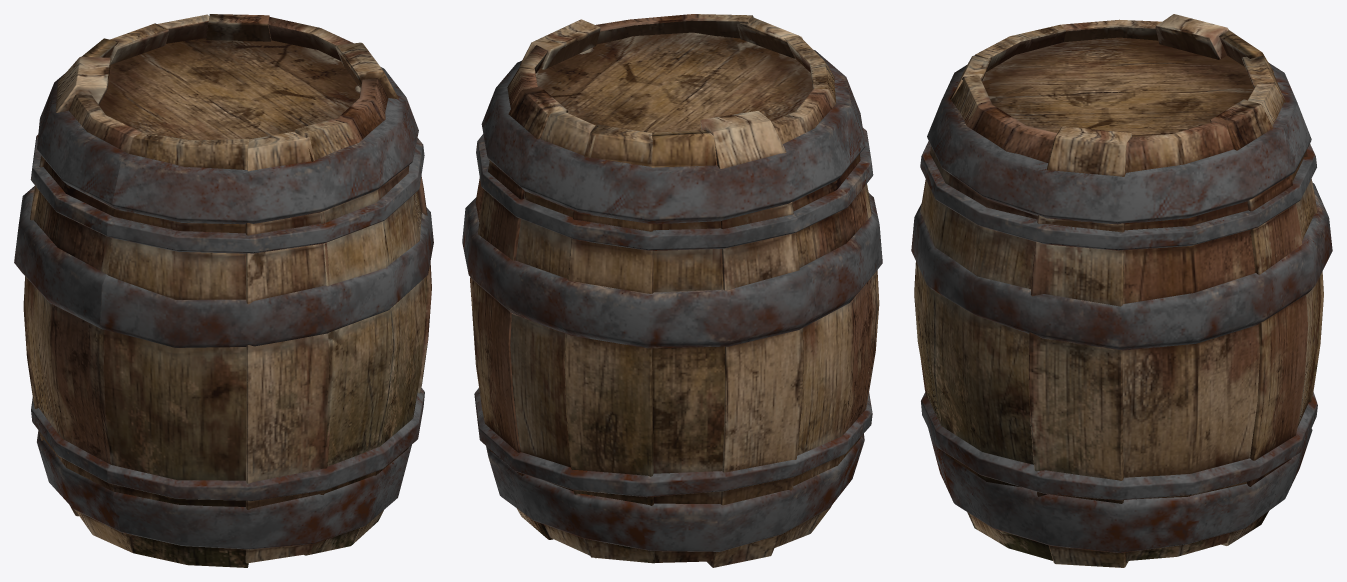
File: SM_Barrel.fbx
The picture shows the model from 3 angles, left to right: view 1: azimuth 30°, elevation 25°; view 2: azimuth 150°, elevation 25°; view 3: azimuth 270°, elevation 25°; orthographic projection.
Parts seen in each view (by area): view 1: SM_Barrel_LOD0; view 2: SM_Barrel_LOD0; view 3: SM_Barrel_LOD0.
Part boxes in pixels (x1=…): SM_Barrel_LOD0: x1=14, y1=14, x2=433, y2=567; SM_Barrel_LOD0: x1=462, y1=14, x2=882, y2=567; SM_Barrel_LOD0: x1=911, y1=14, x2=1332, y2=567.
Size of the model in its own units: 142 by 143 by 161.
